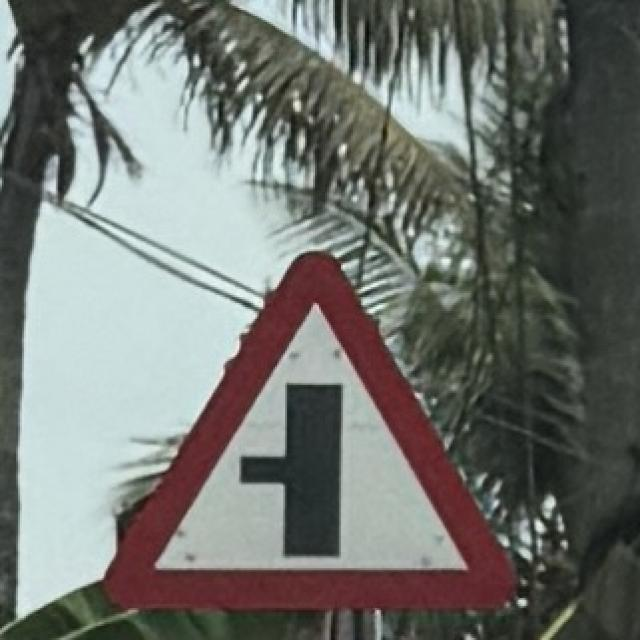SIDE_ROAD_LEFT: (94, 238, 527, 620)
